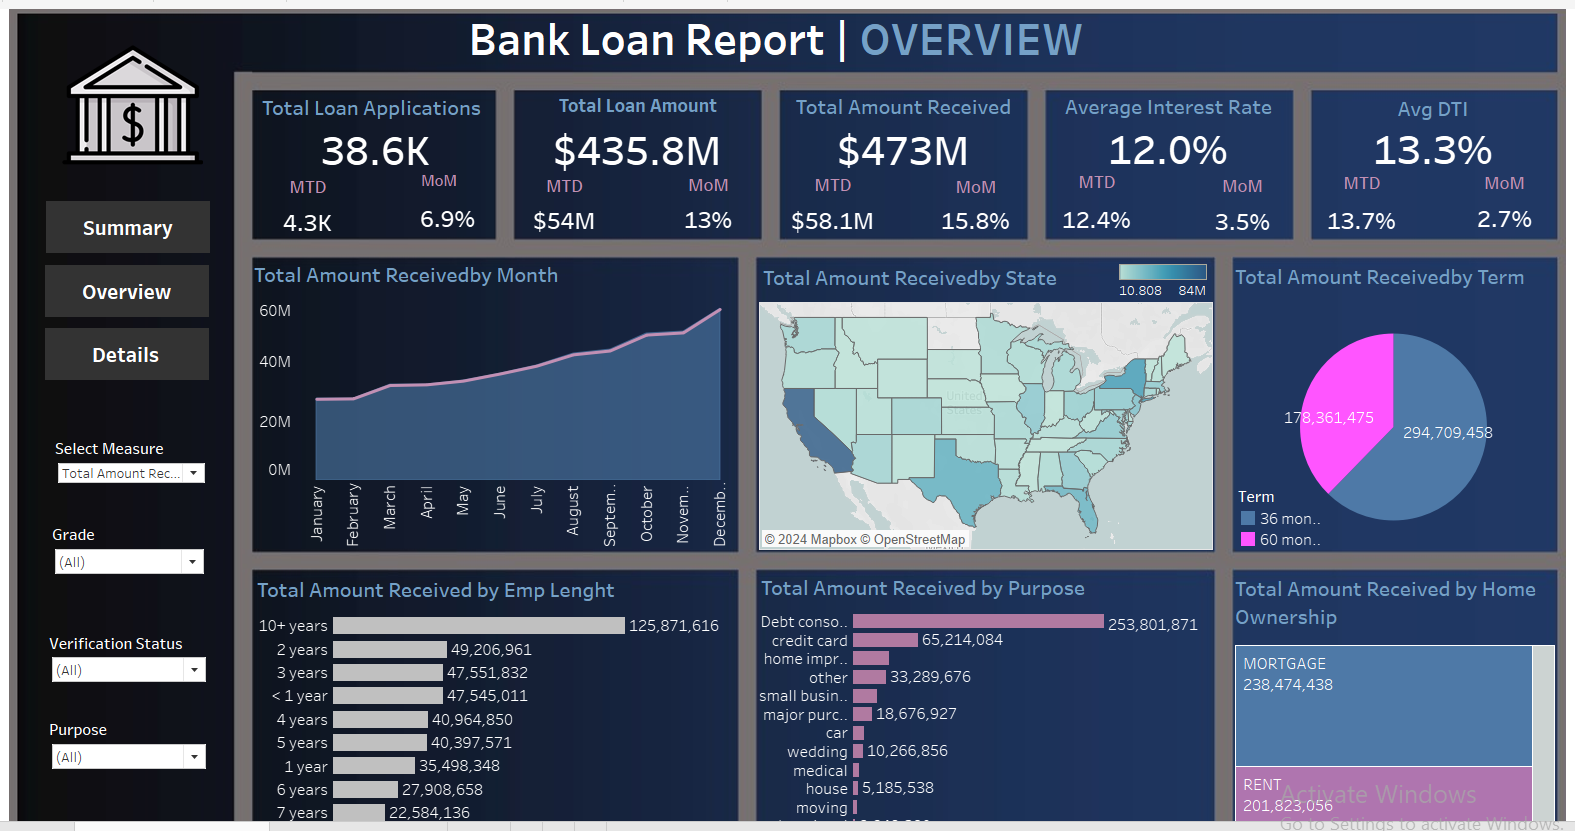

What the dashboard file says about the page in this screenshot:
{"tool":"tableau","page":{"name":"Dashboard OVERVIEW","canvas":[1600,900],"ordinal":1},"visuals":[{"type":"image","param":"C:/Users/LENOVO/Downloads/Tableau Background 2.jpg","box":[8,8,1584,884]},{"type":"text","box":[477,21,635,49]},{"type":"image","param":"C:/Users/LENOVO/AppData/Local/Temp/TableauTemp/1yk98mv09h6rxd12l3qtc0nqyifh/Shee","box":[74,31,141,163]},{"type":"worksheet","title":"Total Funded Amount","mark":"Automatic","box":[527,96,246,83]},{"type":"worksheet","title":"Total Amount Received","mark":"Automatic","box":[793,96,245,80]},{"type":"worksheet","title":"Average Interest Rate","mark":"Automatic","box":[1055,96,251,78]},{"type":"worksheet","title":"Total Loan Applications","mark":"Automatic","box":[270,97,236,77]},{"type":"worksheet","title":"Avg DTI","mark":"Automatic","box":[1322,98,246,75]},{"type":"worksheet","title":"MTD Average Interest","mark":"Automatic","box":[1051,173,116,70]},{"type":"worksheet","title":"MoM Loan Applications","mark":"Automatic","box":[411,174,105,74]},{"type":"worksheet","title":"MTD Avg DTI","mark":"Automatic","box":[1322,174,104,70]},{"type":"worksheet","title":"MoM Avg DTI","mark":"Automatic","box":[1456,174,121,65]},{"type":"worksheet","title":"MoM Funded Amount","mark":"Automatic","box":[656,176,129,63]},{"type":"worksheet","title":"MTD Total Amount Received","mark":"Automatic","box":[794,176,102,65]},{"type":"worksheet","title":"MTD Total Funded Amount","mark":"Automatic","box":[524,177,105,63]},{"type":"worksheet","title":"MoM Average Interest","mark":"Automatic","box":[1193,177,123,66]},{"type":"worksheet","title":"MTD Loan Applications","mark":"Automatic","box":[266,178,108,65]},{"type":"worksheet","title":"MoM Total Amount Received","mark":"Automatic","box":[931,178,114,62]},{"type":"dashboard-object","box":[58,209,164,52]},{"type":"worksheet","title":"month","mark":"Area","rows":["Calculation_77405639871549478","Calculation_77405639871549478"],"cols":["issue_date"],"box":[262,264,488,292]},{"type":"worksheet","title":"term","mark":"Pie","box":[1243,266,325,295]},{"type":"worksheet","title":"state","mark":"Multipolygon","box":[771,267,454,291]},{"type":"legend","title":"state","param":"[federated.04lrqcg0eo35961g28ode0irnr3b].[usr:Calculation_77405639871549478:qk]","box":[1127,268,96,35]},{"type":"dashboard-object","box":[57,273,164,52]},{"type":"dashboard-object","box":[57,336,164,52]},{"type":"parameter","param":"[Parameters].[Parameter 1]","box":[67,446,153,48]},{"type":"legend","title":"term","param":"[federated.04lrqcg0eo35961g28ode0irnr3b].[none:term:nk]","box":[1250,494,90,64]},{"type":"filter","title":"Average Interest Rate","param":"[federated.04lrqcg0eo35961g28ode0irnr3b].[none:grade:nk]","box":[64,532,155,55]},{"type":"worksheet","title":"purpose","mark":"Automatic","rows":["purpose"],"cols":["Calculation_77405639871549478"],"box":[769,577,458,303]},{"type":"worksheet","title":"home ownership","mark":"Automatic","box":[1243,578,327,302]},{"type":"worksheet","title":"emp lenght","mark":"Automatic","rows":["emp_length"],"cols":["Calculation_77405639871549478"],"box":[265,579,485,300]},{"type":"filter","title":"Average Interest Rate","param":"[federated.04lrqcg0eo35961g28ode0irnr3b].[none:verification_status:nk]","box":[61,641,160,51]},{"type":"filter","title":"Average Interest Rate","param":"[federated.04lrqcg0eo35961g28ode0irnr3b].[none:purpose:nk]","box":[61,727,160,60]}]}

Visuals, with their boxes on the page's 1600x900 design canvas (x1, y1, x2, y2). These are canvas units, not pixel positions in the 1575x831 screenshot, which may show the page scaled, cropped or inside an application window:
image: bbox=(8, 8, 1592, 892)
text: bbox=(477, 21, 1112, 70)
image: bbox=(74, 31, 215, 194)
"Total Funded Amount" worksheet: bbox=(527, 96, 773, 179)
"Total Amount Received" worksheet: bbox=(793, 96, 1038, 176)
"Average Interest Rate" worksheet: bbox=(1055, 96, 1306, 174)
"Total Loan Applications" worksheet: bbox=(270, 97, 506, 174)
"Avg DTI" worksheet: bbox=(1322, 98, 1568, 173)
"MTD Average Interest" worksheet: bbox=(1051, 173, 1167, 243)
"MoM Loan Applications" worksheet: bbox=(411, 174, 516, 248)
"MTD Avg DTI" worksheet: bbox=(1322, 174, 1426, 244)
"MoM Avg DTI" worksheet: bbox=(1456, 174, 1577, 239)
"MoM Funded Amount" worksheet: bbox=(656, 176, 785, 239)
"MTD Total Amount Received" worksheet: bbox=(794, 176, 896, 241)
"MTD Total Funded Amount" worksheet: bbox=(524, 177, 629, 240)
"MoM Average Interest" worksheet: bbox=(1193, 177, 1316, 243)
"MTD Loan Applications" worksheet: bbox=(266, 178, 374, 243)
"MoM Total Amount Received" worksheet: bbox=(931, 178, 1045, 240)
dashboard-object: bbox=(58, 209, 222, 261)
"month" worksheet (Area marks): bbox=(262, 264, 750, 556)
"term" worksheet (Pie marks): bbox=(1243, 266, 1568, 561)
"state" worksheet (Multipolygon marks): bbox=(771, 267, 1225, 558)
"state" legend: bbox=(1127, 268, 1223, 303)
dashboard-object: bbox=(57, 273, 221, 325)
dashboard-object: bbox=(57, 336, 221, 388)
parameter: bbox=(67, 446, 220, 494)
"term" legend: bbox=(1250, 494, 1340, 558)
"Average Interest Rate" filter: bbox=(64, 532, 219, 587)
"purpose" worksheet: bbox=(769, 577, 1227, 880)
"home ownership" worksheet: bbox=(1243, 578, 1570, 880)
"emp lenght" worksheet: bbox=(265, 579, 750, 879)
"Average Interest Rate" filter: bbox=(61, 641, 221, 692)
"Average Interest Rate" filter: bbox=(61, 727, 221, 787)
